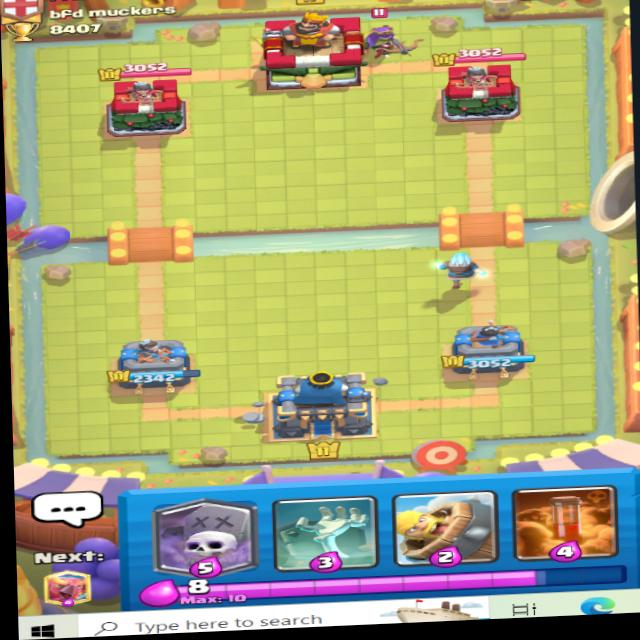archer-queen: (346, 2, 428, 64)
